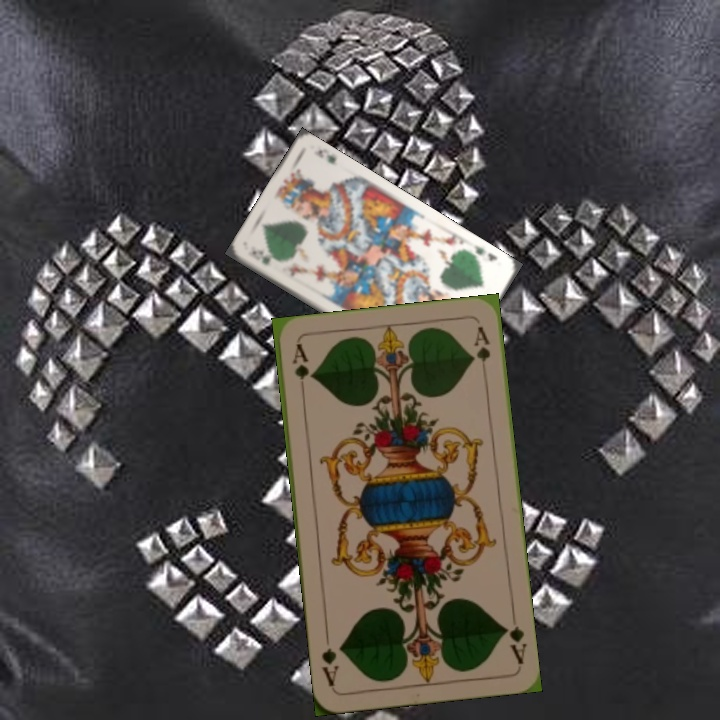GA: (288, 340, 312, 399), (499, 622, 529, 667)
GK: (469, 241, 499, 264), (248, 247, 273, 268)
